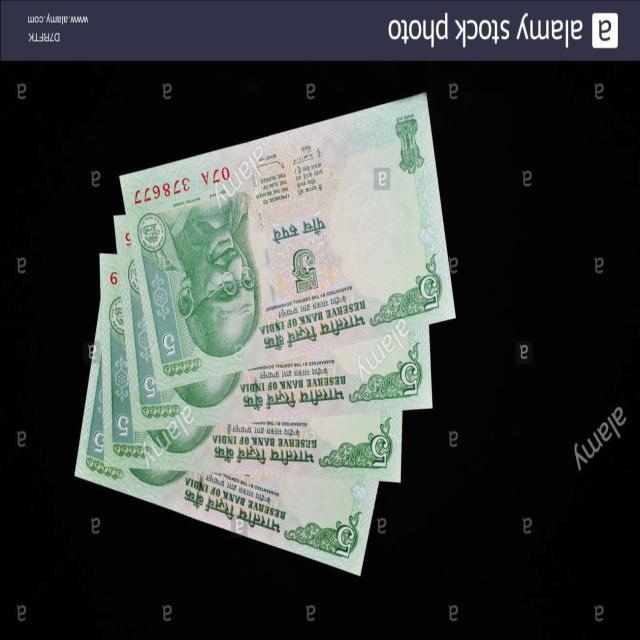5IndianRupees: (138, 120, 477, 380)
